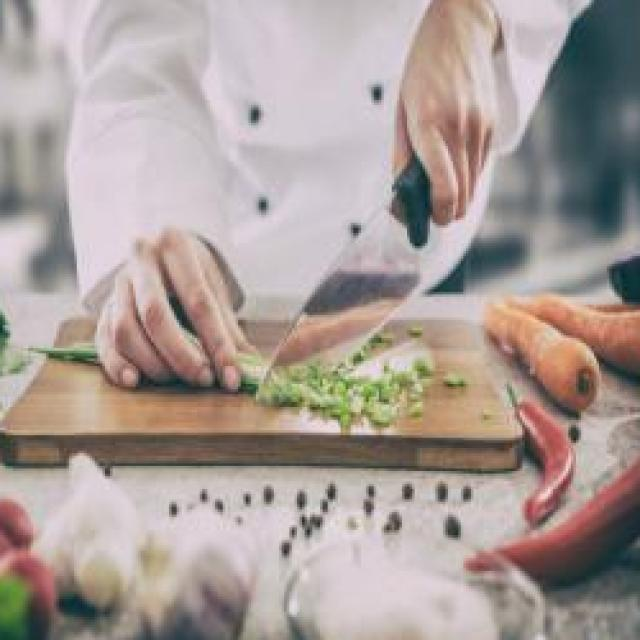knife: (252, 146, 448, 407)
